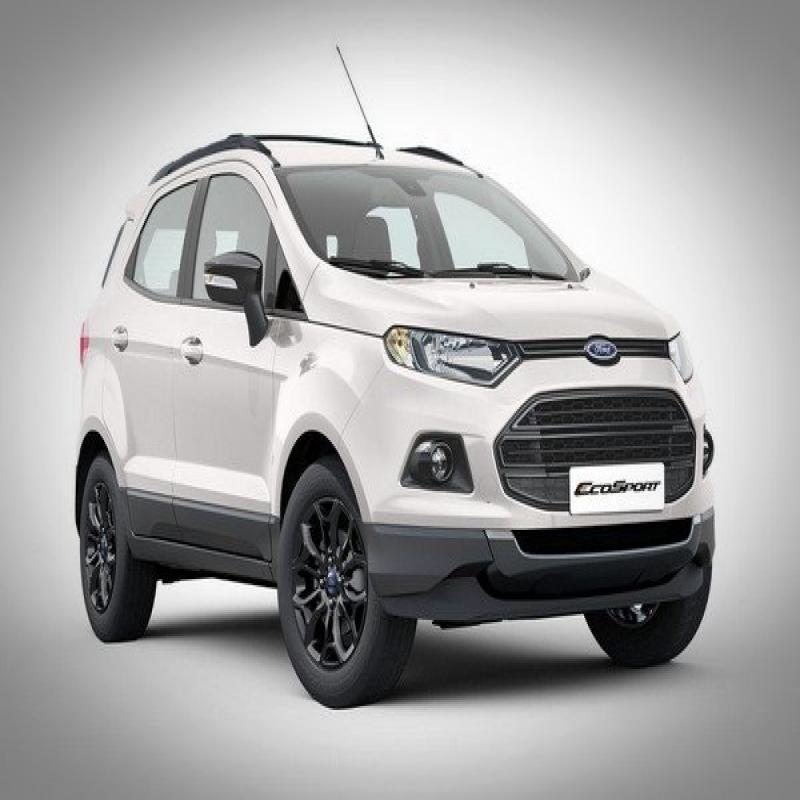car: (51, 94, 724, 708)
